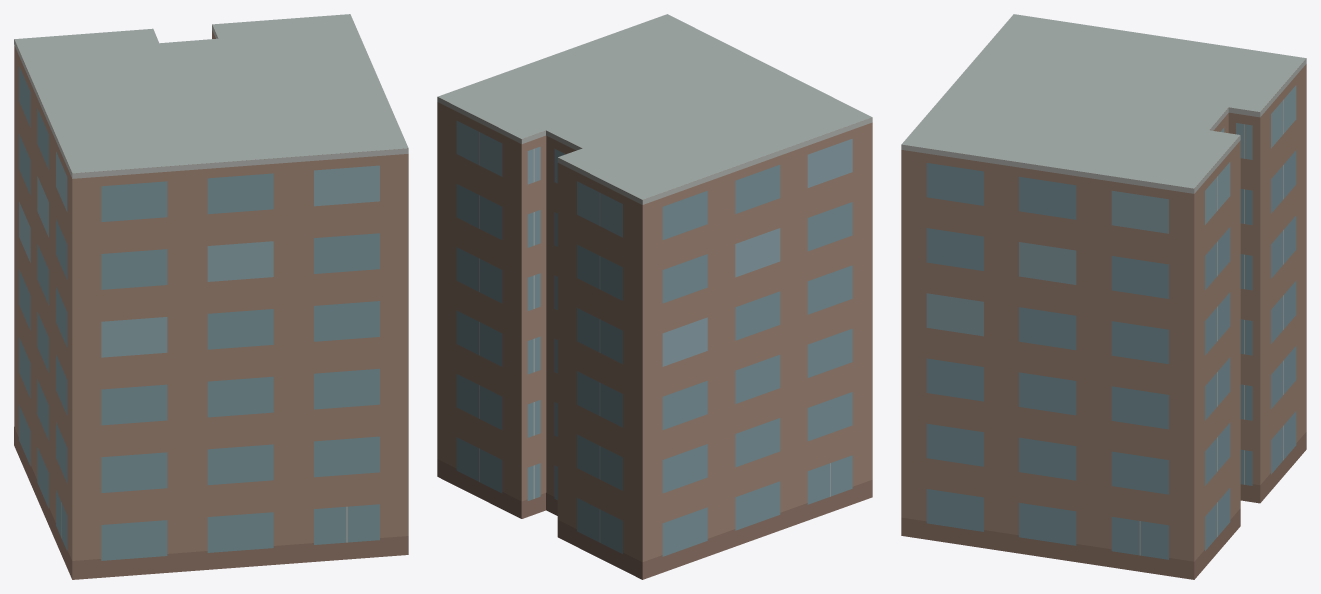
The model's file is survey-upis-32885126.glb.
3 renders of one model, left to right at view 1: azimuth 30°, elevation 25°; view 2: azimuth 150°, elevation 25°; view 3: azimuth 270°, elevation 25°, orthographic. The views are drawn at different scales.
Parts seen in each view (by area): view 1: survey-upis-32885126.tmp; view 2: survey-upis-32885126.tmp; view 3: survey-upis-32885126.tmp.
Boxes of the visible parts, x1,y1,x2,y2 form: survey-upis-32885126.tmp: (14, 14, 408, 579); survey-upis-32885126.tmp: (437, 14, 872, 579); survey-upis-32885126.tmp: (901, 14, 1306, 579).
Bounding box in the file's own units: 17.43 × 18.2 × 17.1.
